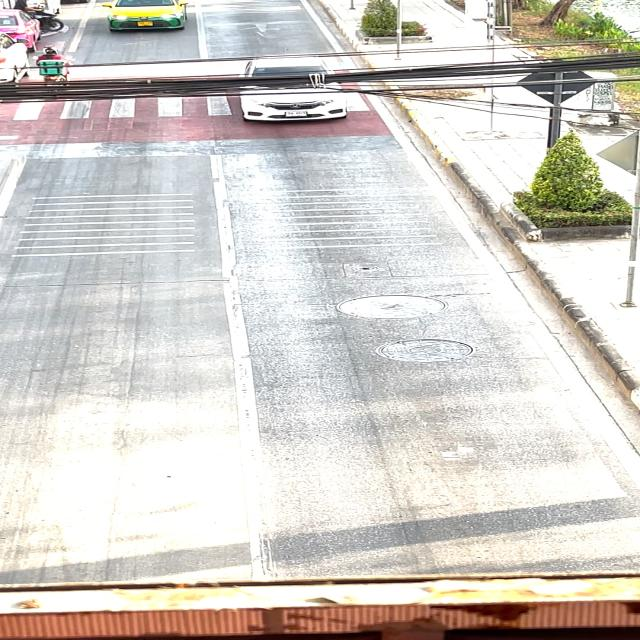car: (223, 45, 352, 129), (96, 0, 201, 40)
